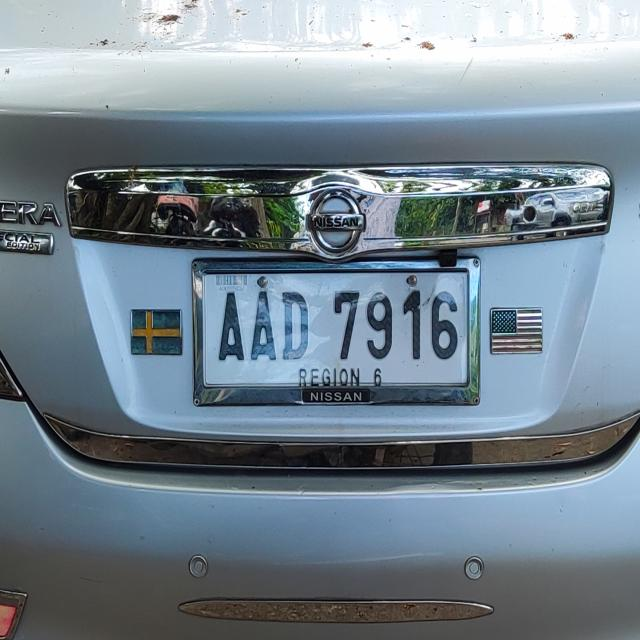plate: (190, 255, 482, 407)
